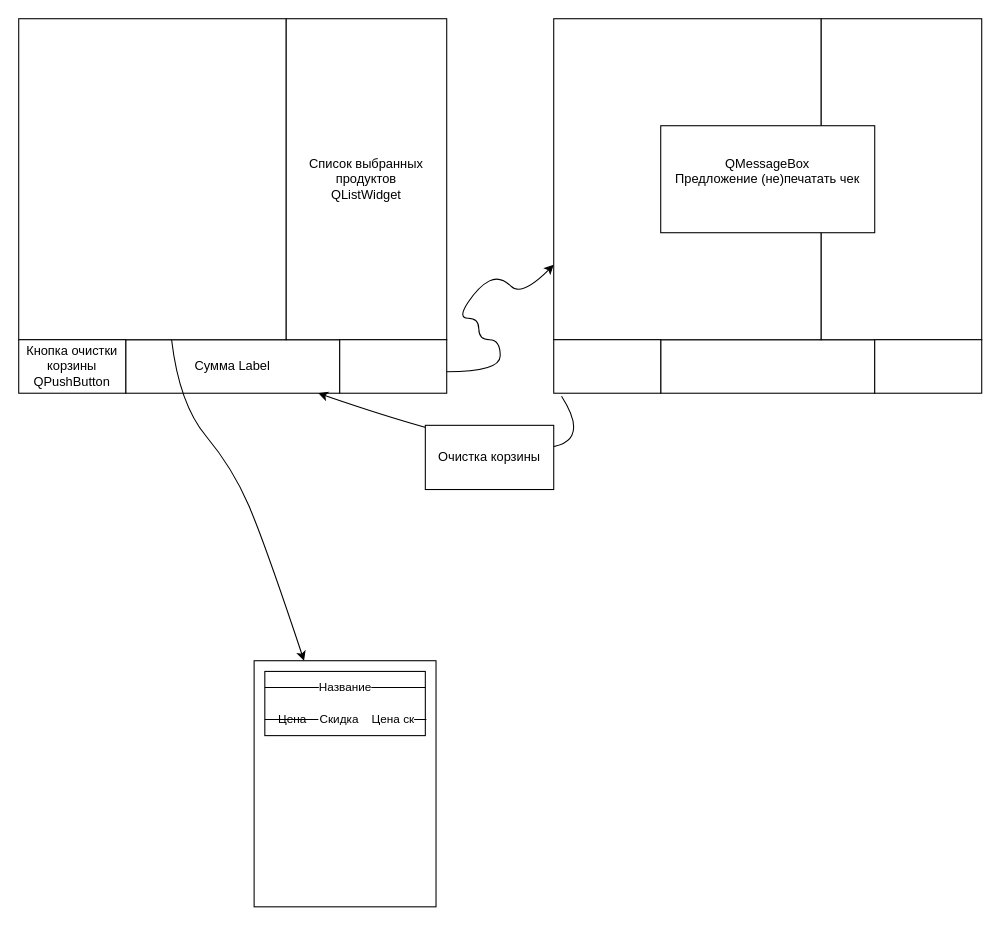
Image size: 1000x926. Some labels were removed from this diagram. Each missing label, with the centre of its shape:
"Выбор продуктов QListWidget" goes at point (152, 179).
"Кнопка покупки QPushButton" goes at point (393, 366).
